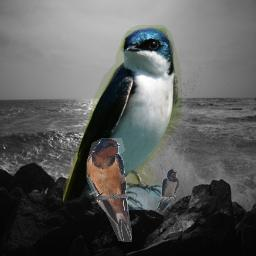Swallow: (63, 25, 182, 210), (86, 138, 132, 242), (156, 169, 179, 212)
